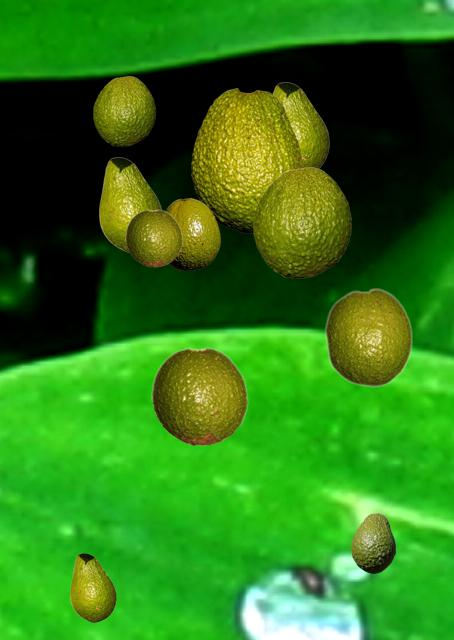avocado: (191, 88, 302, 232), (253, 167, 350, 277), (151, 347, 248, 445), (324, 287, 412, 387), (99, 157, 161, 251), (272, 82, 328, 168), (93, 76, 154, 145), (166, 198, 219, 269), (125, 209, 182, 266), (70, 553, 115, 621), (351, 513, 394, 572)
